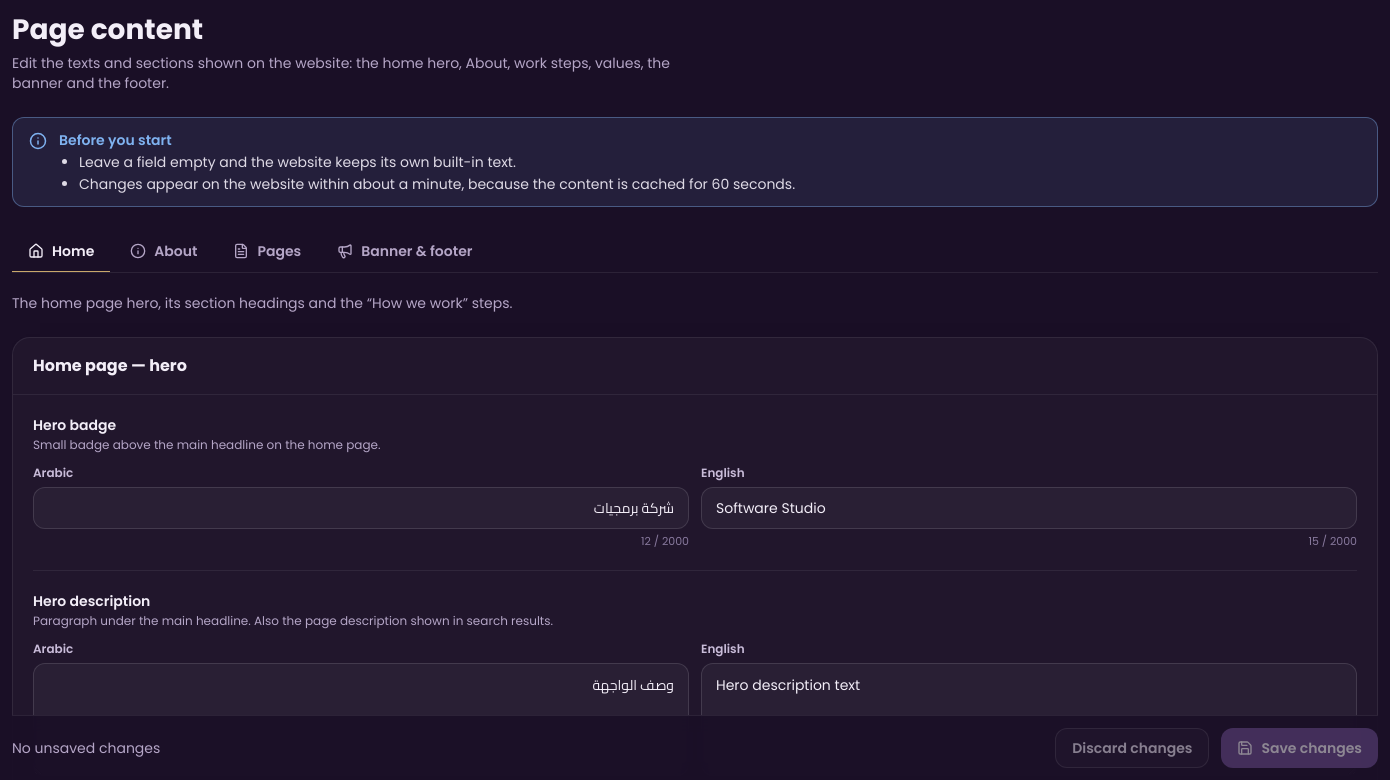
PageContent — saving › keeps the edits and shows a toast when the server is down
This screenshot has width=1390, height=780.
Expected: the tab "Home" is shown, [12,231,110,273]
Type "!" into the field named "Hero badge (English)".
click(1029, 508); type("!")  # box [701,487,1357,529]
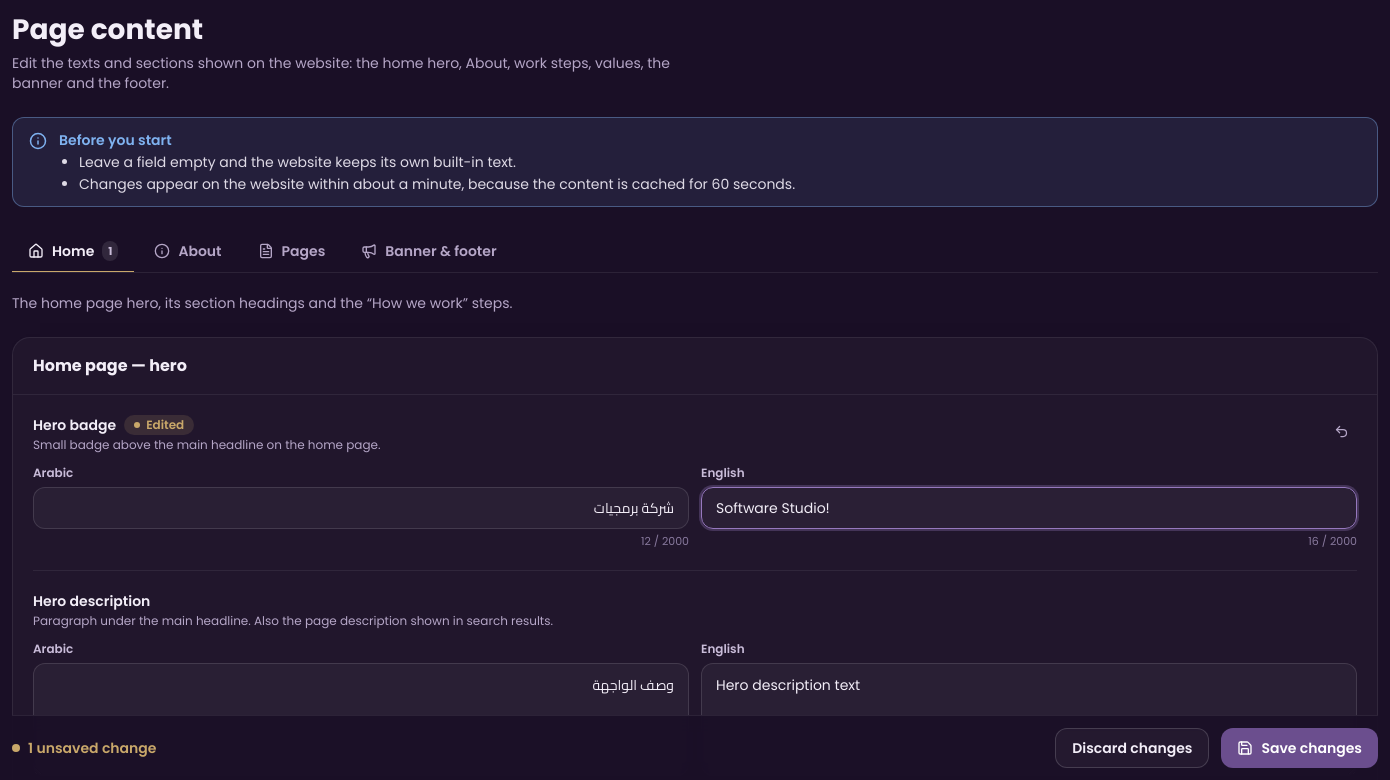
Click the button "Save changes".
click(1300, 748)  # box [1221,728,1378,768]
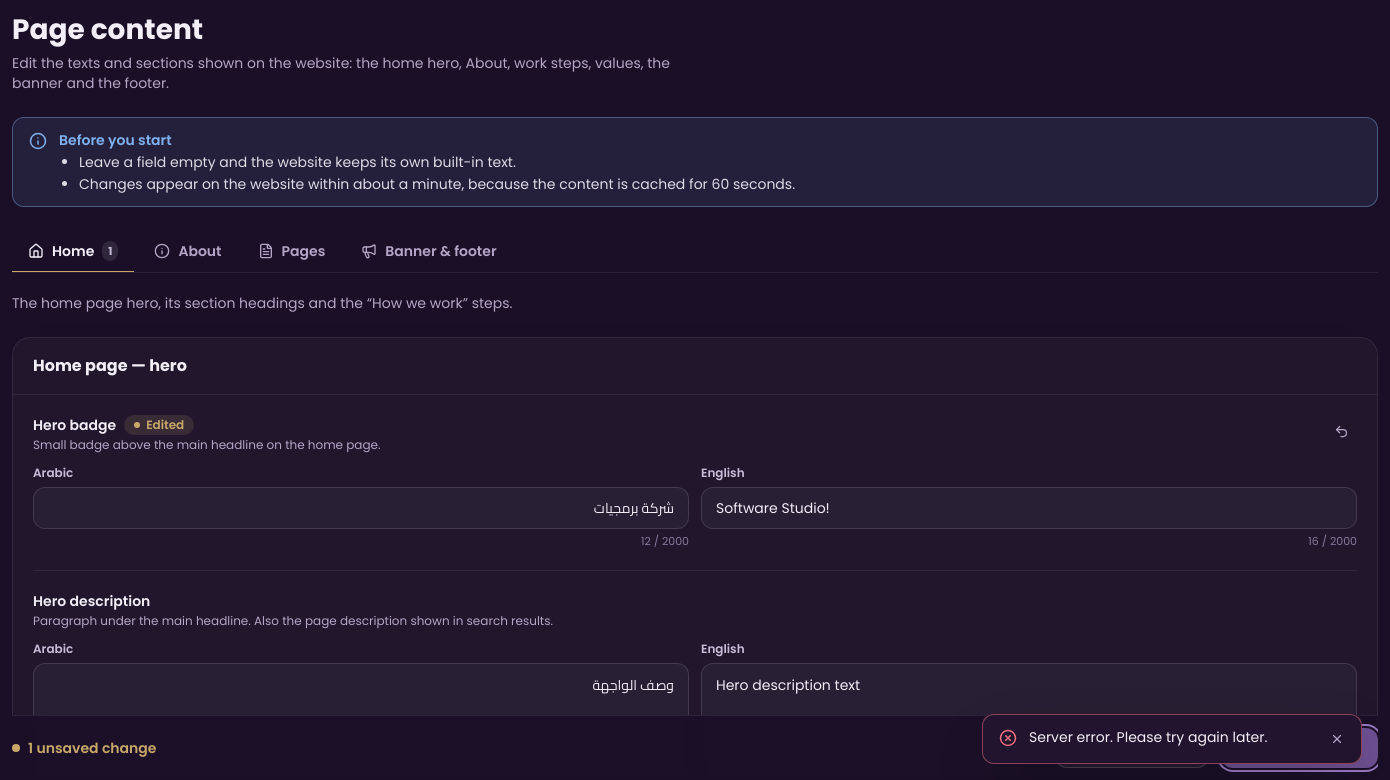
Expected: the field named "Hero badge (English)" holds "Software Studio!", [701,487,1357,529]
Expected: the button "Save changes" is enabled, [1221,728,1378,768]
Expected: the text "Server error. Please try again later." is shown, [1029,727,1267,747]
